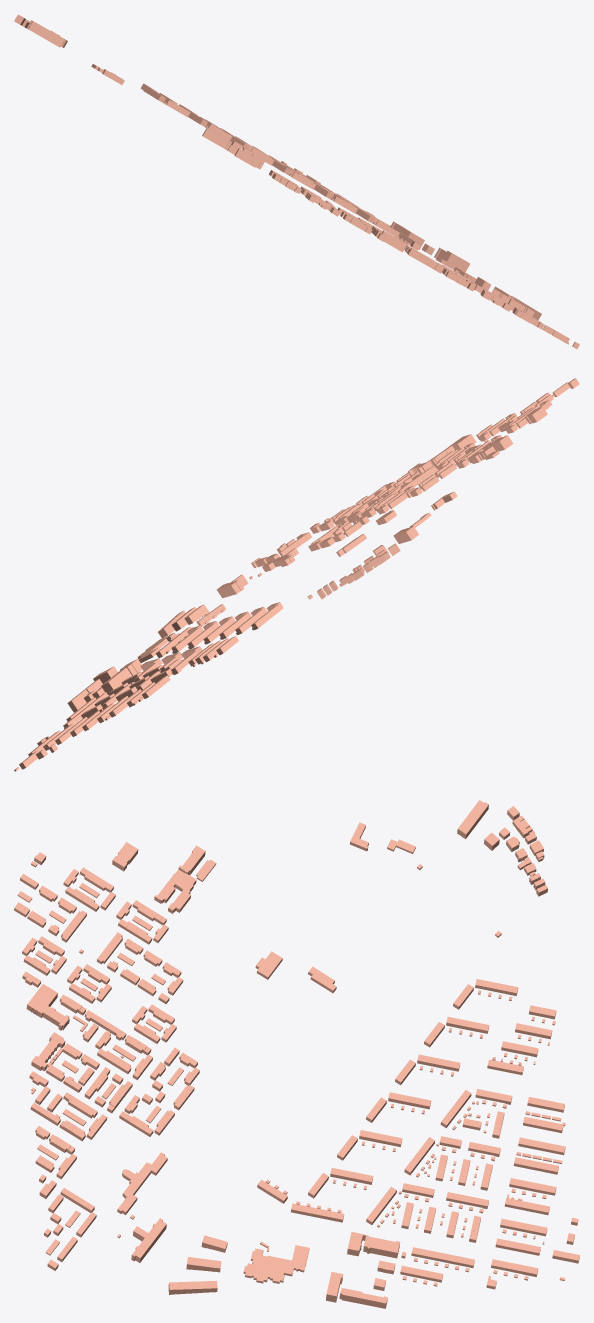
3 renders of one model, top to bottom at view 1: azimuth 30°, elevation 25°; view 2: azimuth 150°, elevation 25°; view 3: azimuth 270°, elevation 25°, orthographic. The views are drawn at different scales.
Bounding box in the file's own units: 525 × 397 × 640.
